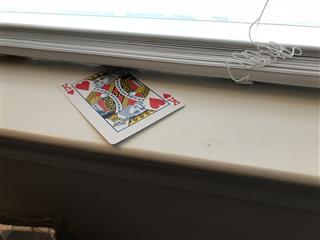KingOfHearts: (56, 66, 185, 144)
